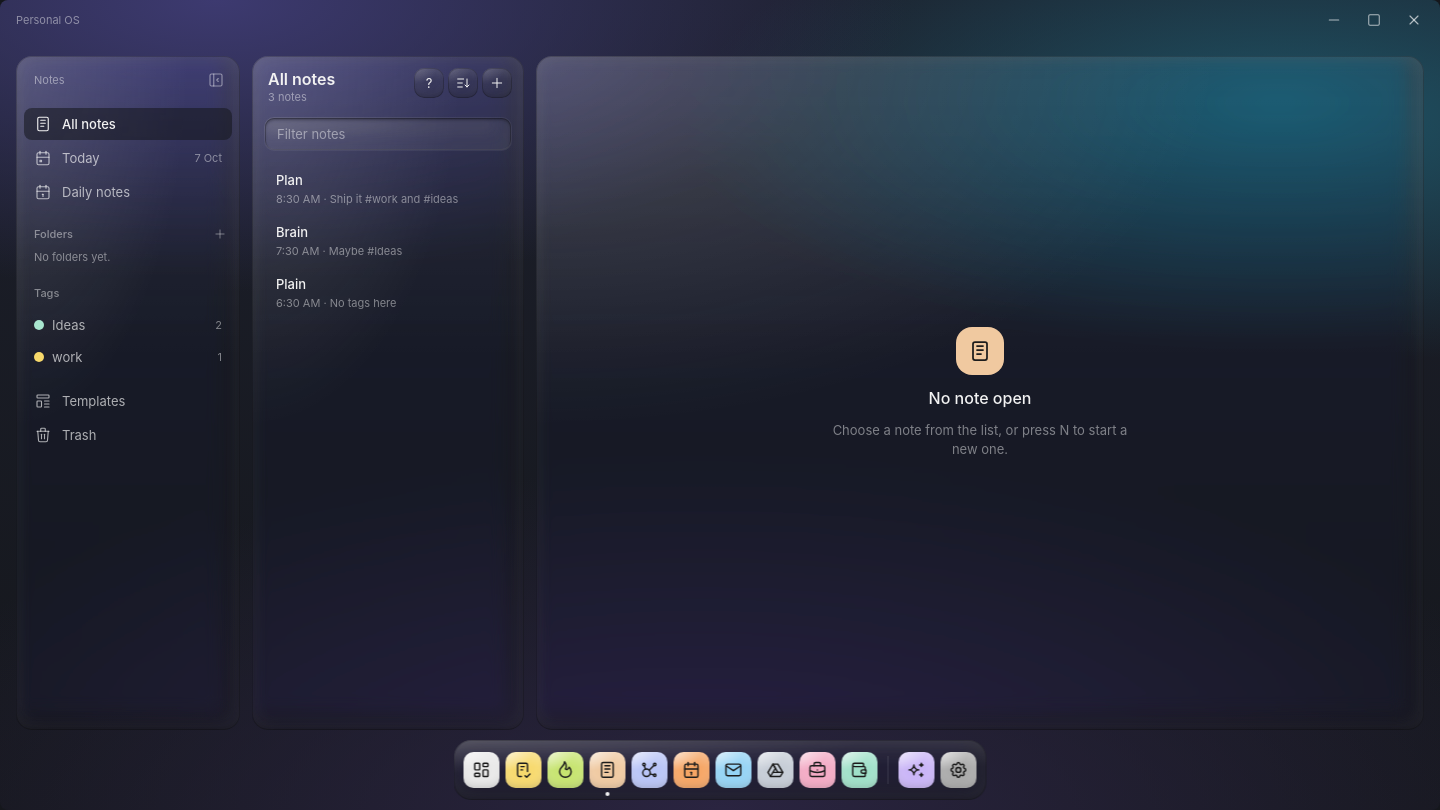
Test case: the Tags section of the side panel › is a single icon button while the side panel is collapsed
Expected: the text "Plan" is shown, [276,171,303,190]
Click the button named "Collapse side panel": {"x": 216, "y": 80} [200,64,232,96]
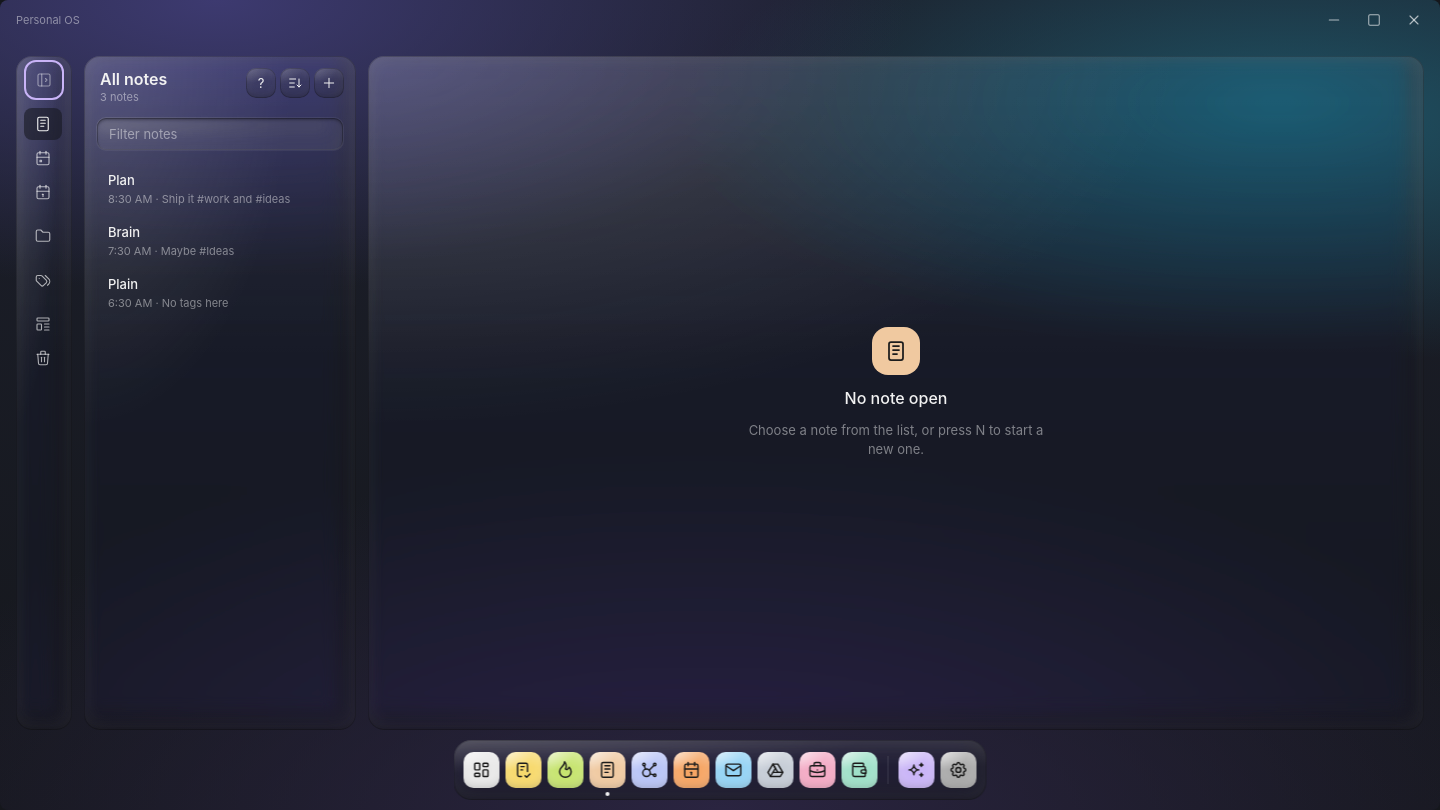
Click the button named "Tags, expand the side panel": {"x": 43, "y": 280} [24,264,62,296]
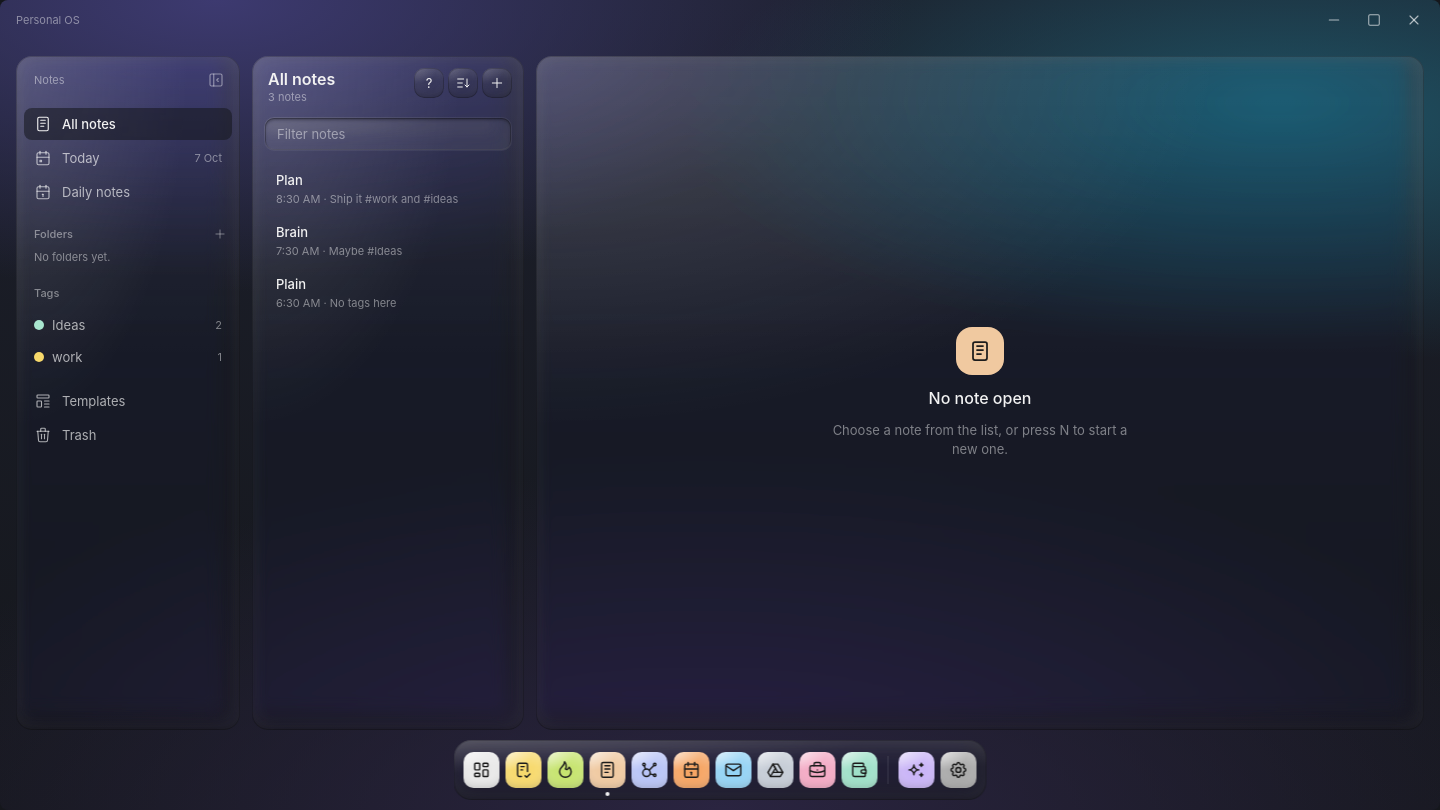
Result: the element "Tags" is shown at [24,279,232,373]
